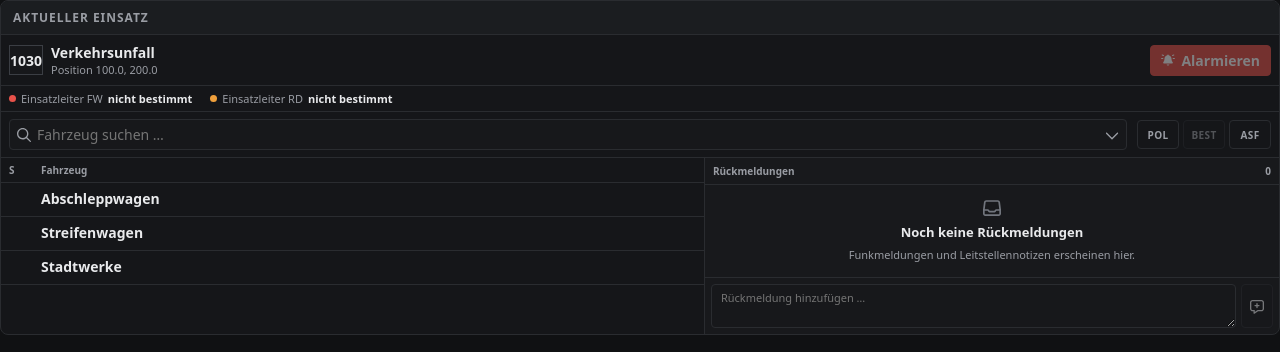
Test case: Aktueller Einsatz › zeigt nicht getrackte Einheiten normal und alarmiert sie nur über Schnellwahl oder Suche erneut
Expected: the number of elements with class "assigned" is 3, [1,183,704,217]; [1,217,704,251]; [1,251,704,285]
Click the button with aria-label "Abschleppwagen vormerken" at (1250, 134), box [1229,120,1271,149]
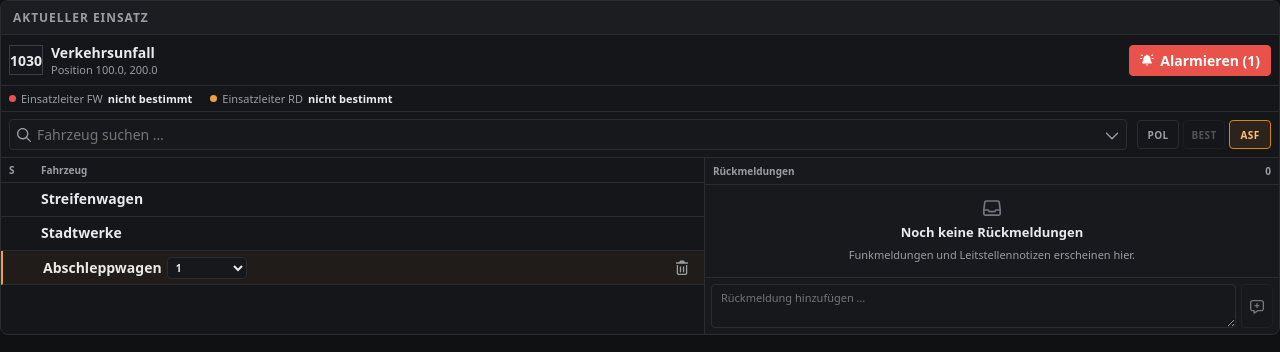
Select "3" in the dropdown named "Ausrückmodus für Abschleppwagen" at (207, 268), box [167,256,247,278]
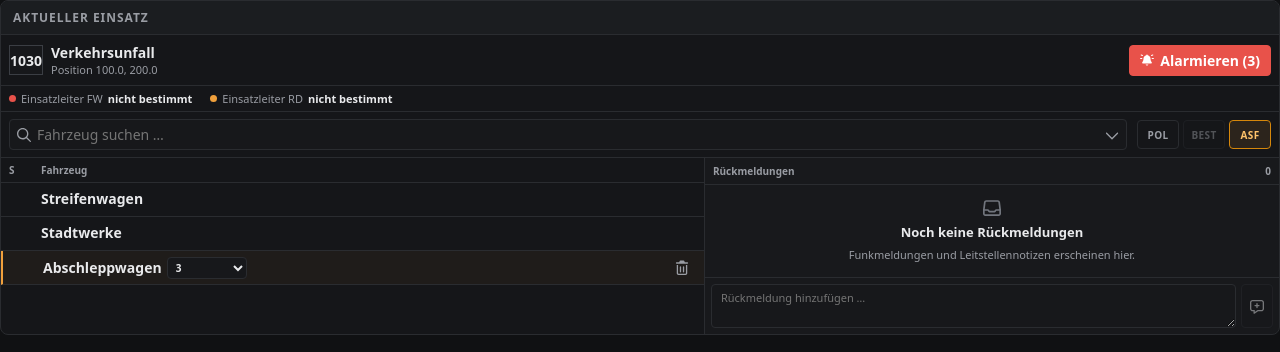
Result: the button "Alarmieren (3)" is shown at [1129,44,1271,76]
